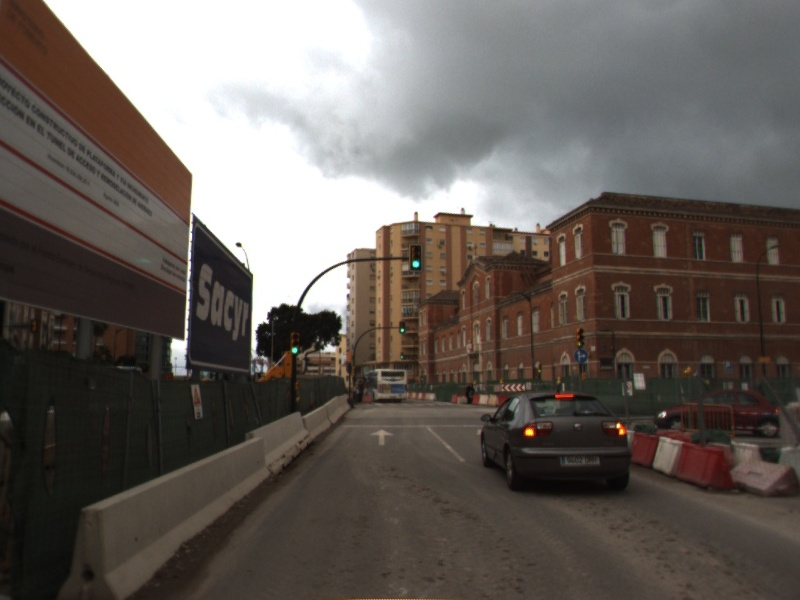STRAIGHT: (368, 428, 397, 447)
